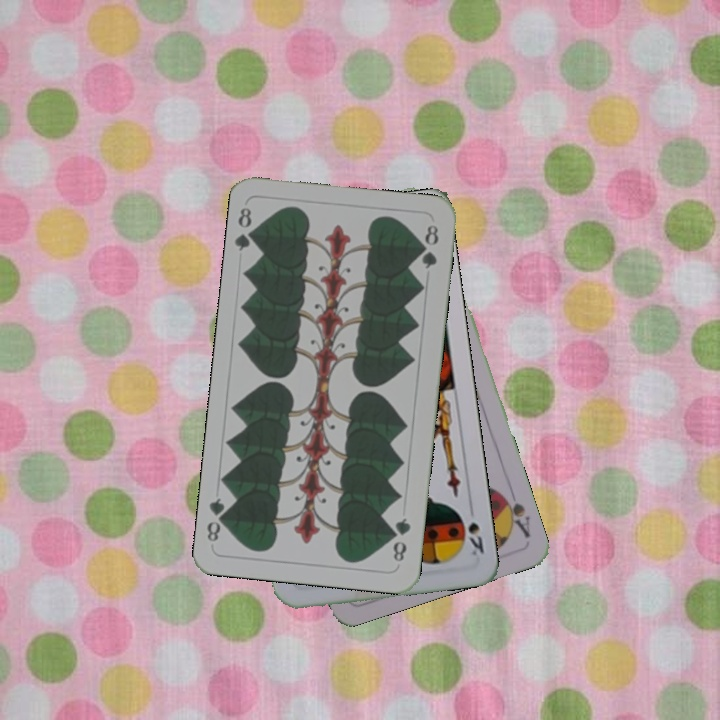G8: (231, 203, 261, 254), (388, 514, 414, 565)
SA: (495, 488, 533, 541)
SK: (464, 518, 487, 560)
